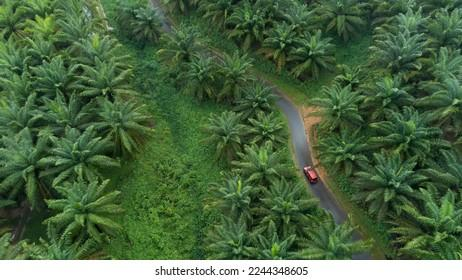coconut_tree: (359, 153, 432, 217), (39, 183, 123, 234), (299, 77, 383, 128), (36, 119, 120, 170), (356, 24, 433, 77), (281, 22, 340, 74), (253, 179, 314, 220), (197, 168, 249, 214), (199, 216, 252, 260), (152, 15, 198, 64), (206, 101, 250, 151), (215, 50, 256, 97)
